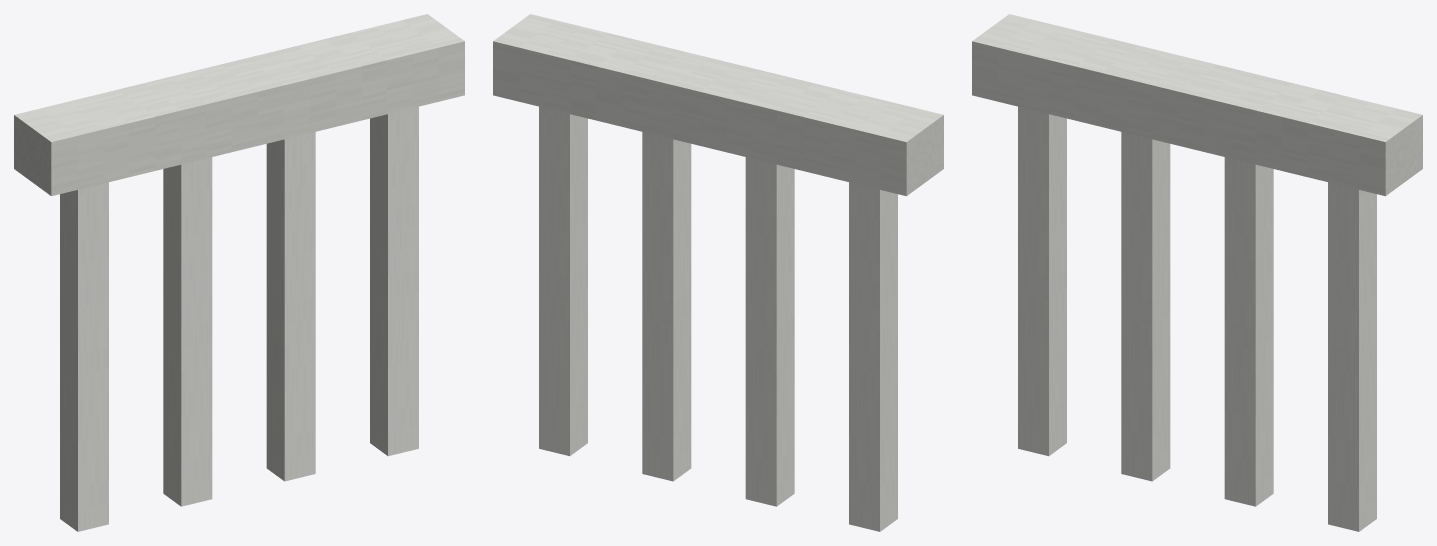
File: level.obj
The picture shows the model from 3 angles, left to right: view 1: azimuth 30°, elevation 25°; view 2: azimuth 150°, elevation 25°; view 3: azimuth 330°, elevation 25°; orthographic projection.
Visible parts, largest first — view 1: railing_baluster_white_level; view 2: railing_baluster_white_level; view 3: railing_baluster_white_level.
Boxes of the visible parts, <box> form: railing_baluster_white_level: <box>14,14,464,531</box>; railing_baluster_white_level: <box>493,14,943,531</box>; railing_baluster_white_level: <box>972,14,1422,531</box>.
Size of the model in its own units: 1 by 0.9375 by 0.1562.
